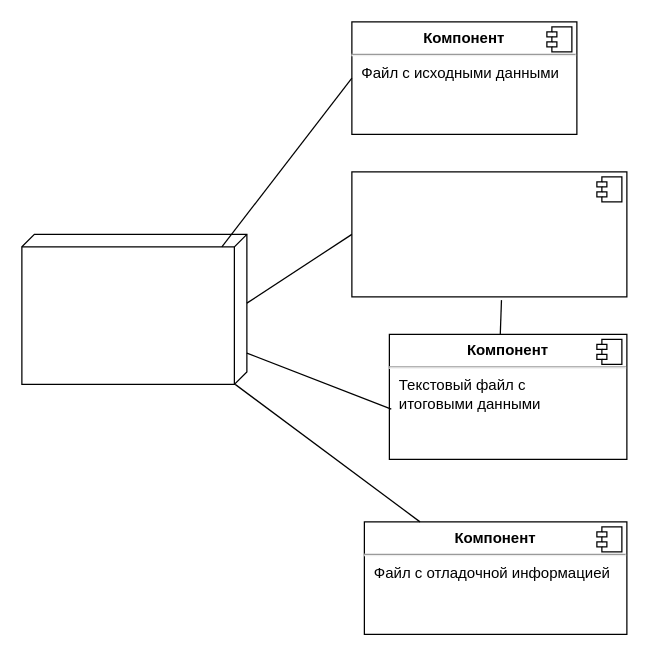
The diagram is 649 pixels wide and 656 high, and some of its shapes have lost their labels. Here are the shapes that lost their labels. From the top down, the box of each, then its label:
(351, 171, 627, 297): Компонент Консольное меню со вводом для решения задачи
(21, 233, 247, 384): Программа для нахождения критического пути
